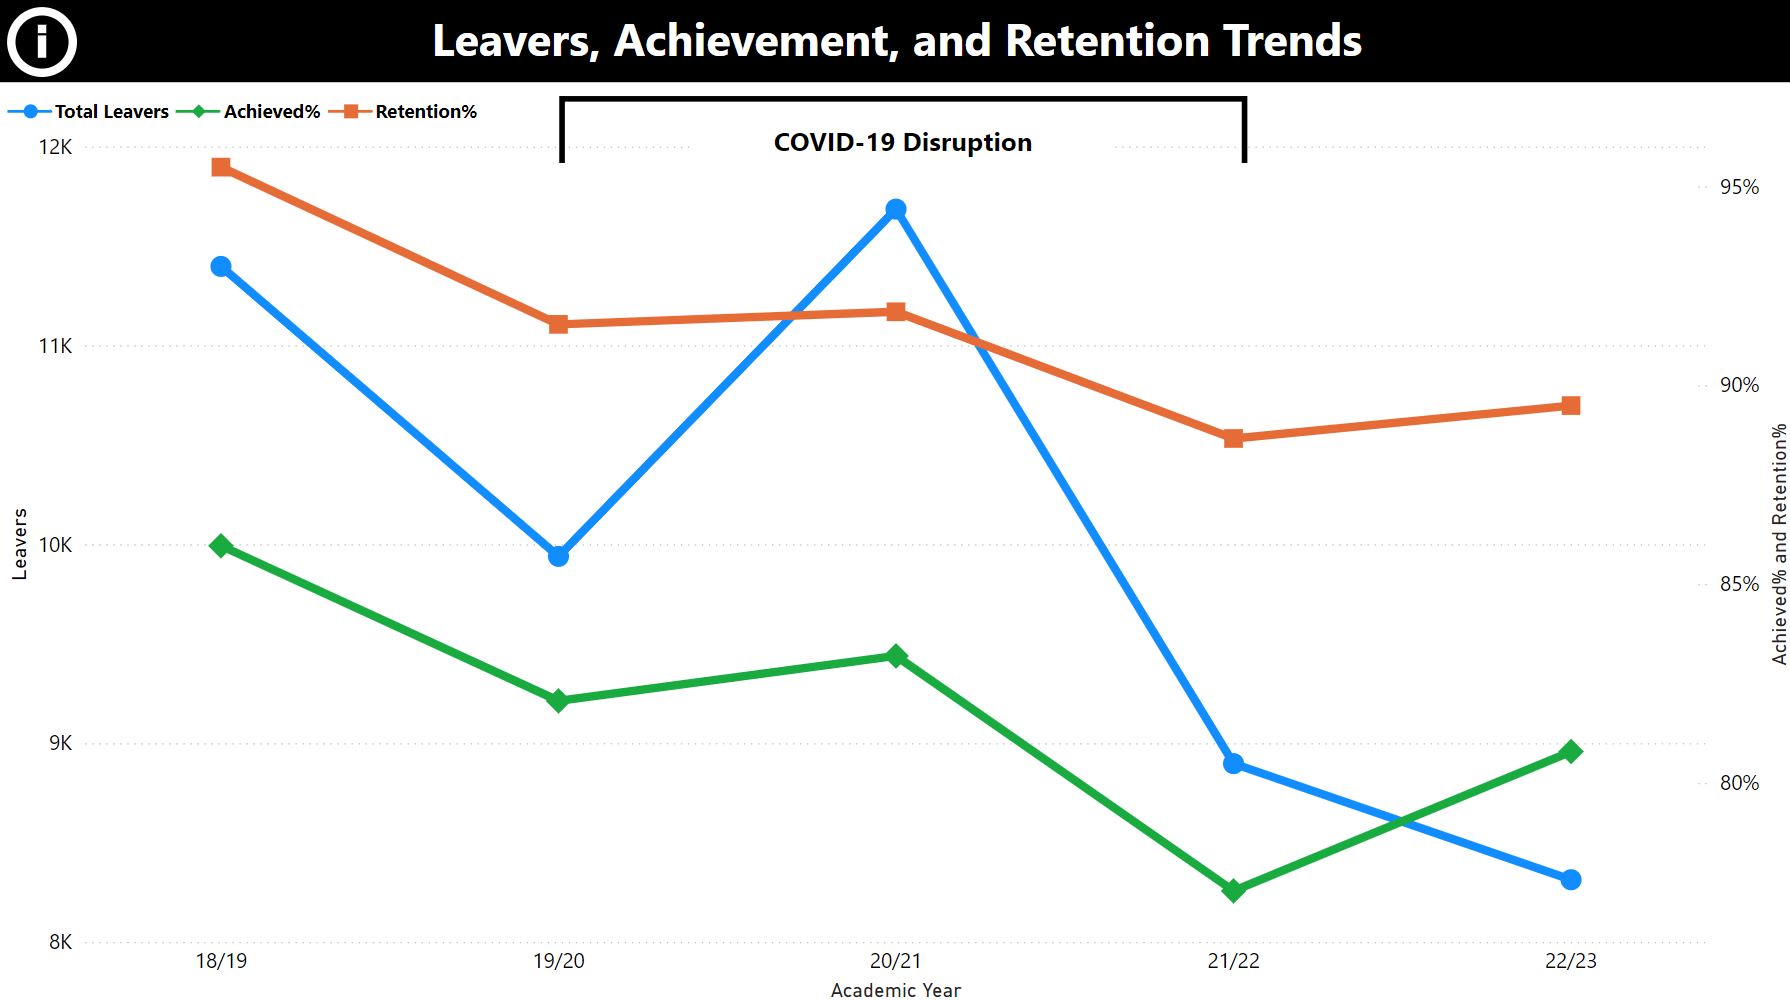

Layout of this report page (visuals, bound fields, positions):
{"tool":"powerbi","page":{"name":"Trends Over Time","canvas":[1280,720],"ordinal":2},"visuals":[{"type":"lineChart","fields":{"Category":["QAR Data.Academic Year"],"Y2":["Measures (2).Achieved%","Measures (2).Retention%"],"Y":["Sum(QAR Data.Leavers)"]},"box":[0,58.9,1281.1,660],"z":0},{"type":"shape","box":[394.4,68.9,12.2,47.8],"z":5000},{"type":"shape","box":[401.1,58.9,487.8,23.3],"z":6000},{"type":"shape","box":[882.2,68.9,12.2,47.8],"z":7000},{"type":"textbox","box":[495,82.5,300,35],"z":7250},{"type":"textbox","title":"Title","box":[0,0,1280,58.9],"z":7500},{"type":"actionButton","box":[0,0,61.1,60],"z":8500}]}

Visuals, with their boxes in screenshot pixels (x1, y1, x2, y2), scaled from the page's 1280x720 canvas onto the 1790x1000 screenshot:
lineChart - QAR Data.Academic Year x Measures (2).Achieved%: detection(0, 82, 1789, 998)
shape: detection(552, 96, 569, 162)
shape: detection(561, 82, 1243, 114)
shape: detection(1234, 96, 1251, 162)
textbox: detection(692, 115, 1112, 163)
"Title" textbox: detection(0, 0, 1789, 82)
actionButton: detection(0, 0, 85, 83)
